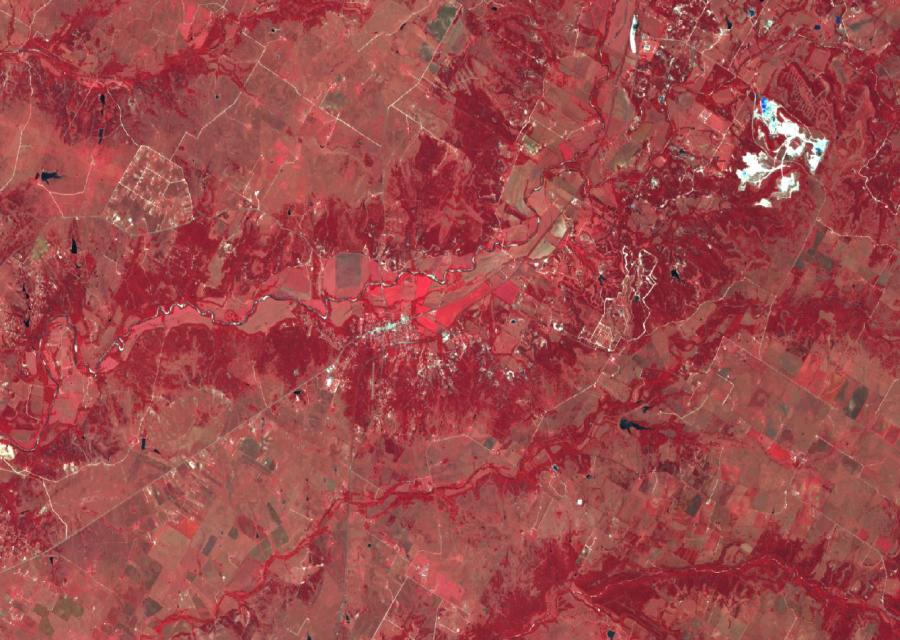Potential Lime Manufacturing Facility: (735, 94, 832, 201)
